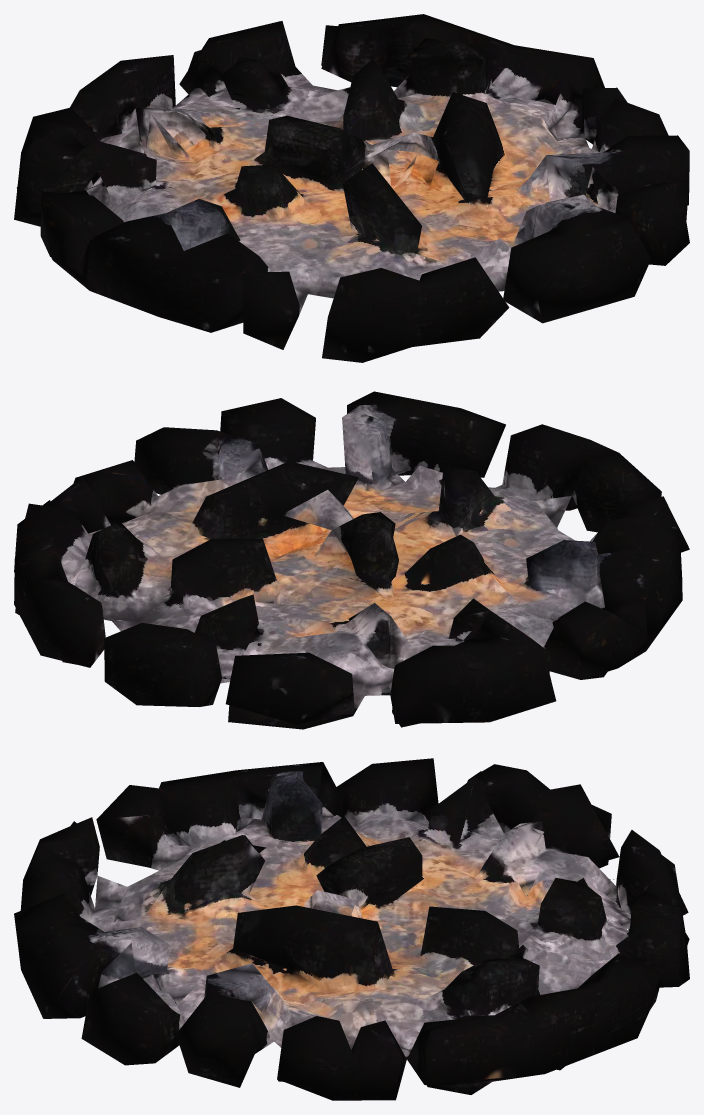
The model's file is EmberBed.glb.
3 renders of one model, top to bottom at view 1: azimuth 30°, elevation 25°; view 2: azimuth 150°, elevation 25°; view 3: azimuth 270°, elevation 25°, orthographic.
Bounding box in the file's own units: 0.9676 × 0.1726 × 0.9687.
Materials: 1 (1 with a texture image).
